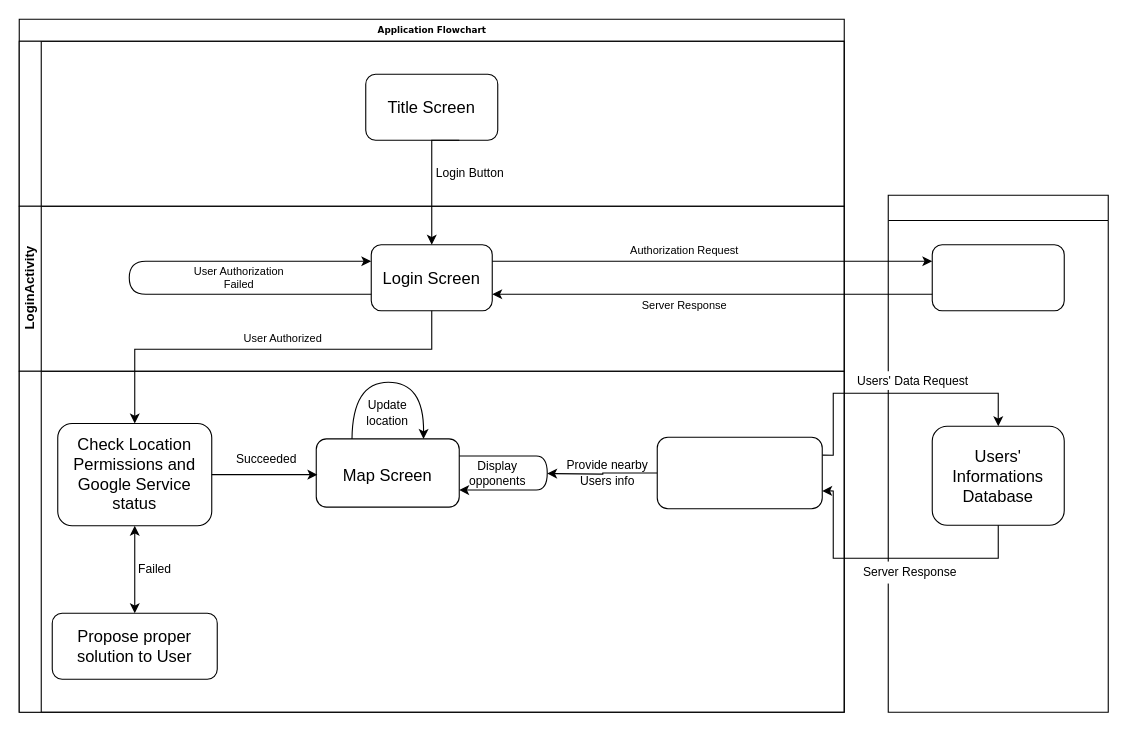
Some shapes in this 1128 by 732 pixel diagram are drawn without their labels. Each missing label, with the box of its shape:
Database server: (887, 194, 1108, 712)
MainActivity: (18, 40, 844, 206)
MapsActivity: (18, 370, 844, 712)
Racer Repository: (656, 436, 822, 509)
User Authorization: (931, 244, 1064, 311)
